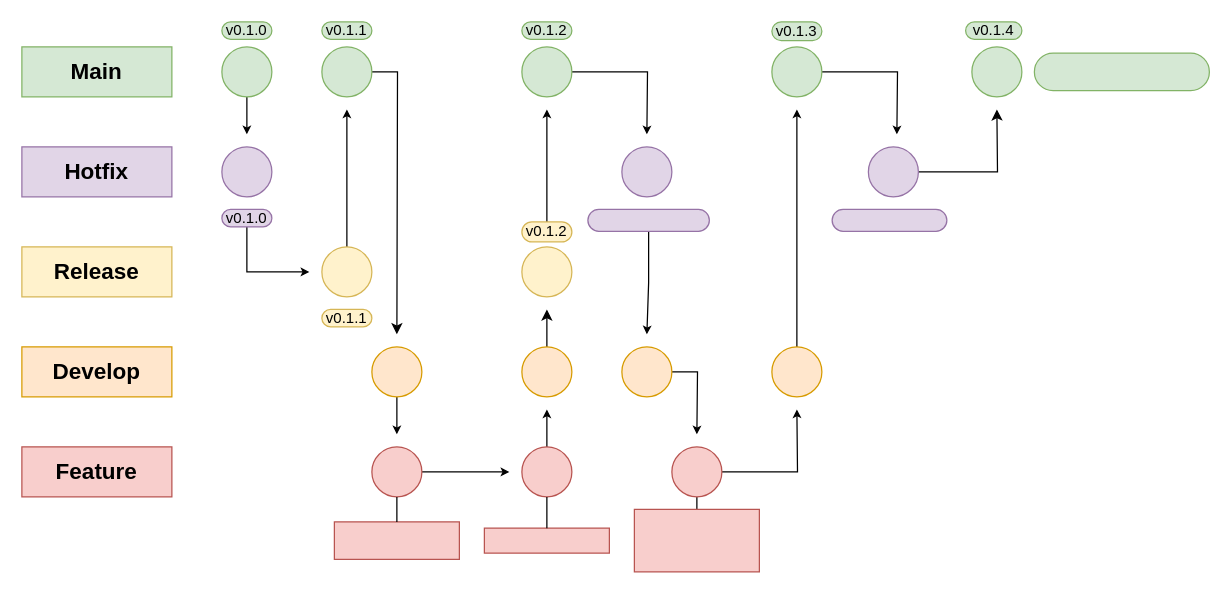
Image size: 1231x594. Some labels were removed from this diagram. Here are the shapes that lost their labels. From the top down, the centre of each, then its label:
At (1121,71): "Projeto Finalizado!".
At (648,219): "Correção v0.1.2".
At (889,219): "Correção v0.1.3".
At (396,540): "Integração parcial com banco de dados".
At (546,540): "Integração finalizada".
At (696,540): "Implementação de sistema CRUD, Python - SQL".
